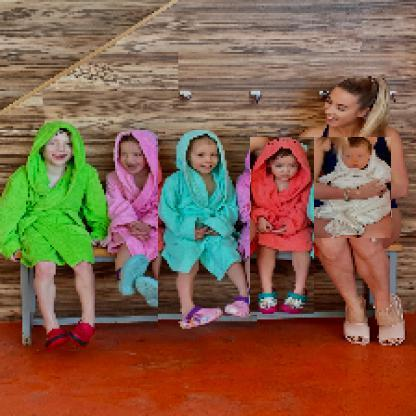child: (1, 120, 111, 352), (159, 130, 259, 331), (105, 130, 181, 308), (251, 138, 316, 317), (315, 139, 393, 241)
